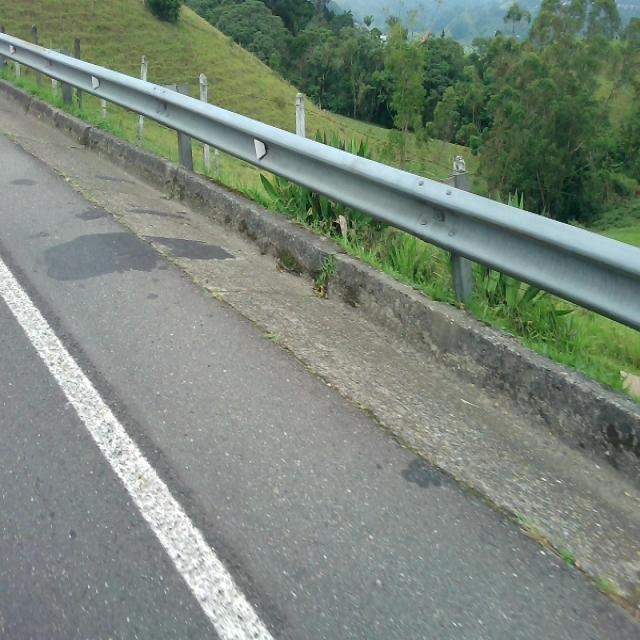DITCH: (1, 1, 638, 638), (1, 74, 638, 637), (1, 80, 639, 637)
